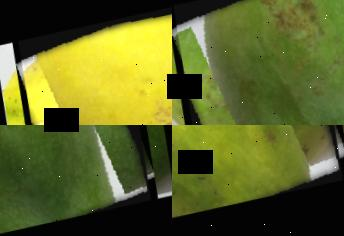PartiallyRipe: (172, 125, 344, 235)
Ripe: (12, 0, 172, 125)
Unripe: (172, 0, 344, 125), (0, 125, 157, 236)
